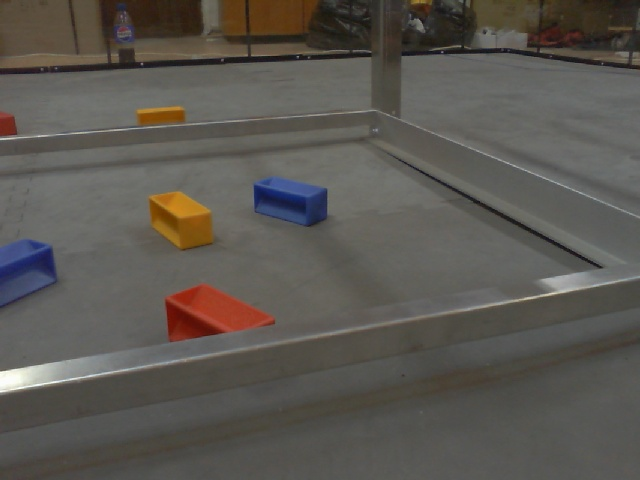BlueSample: (1, 235, 61, 310), (253, 174, 329, 227)
RedSample: (162, 280, 278, 343)
YellowSample: (147, 190, 216, 250), (134, 103, 187, 127)
